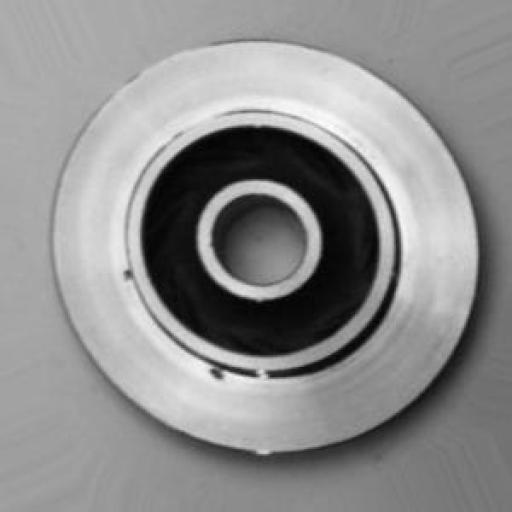defect: (100, 224, 236, 406)
